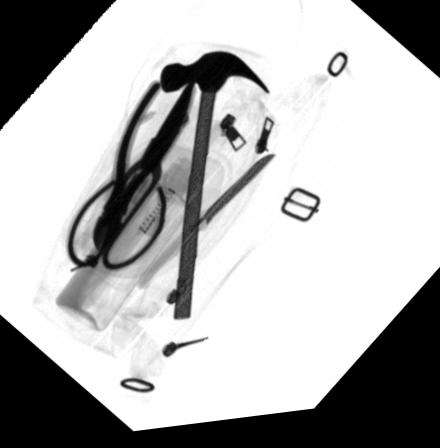Hammer: (158, 55, 270, 324)
Knife: (132, 158, 275, 295)
Pliers: (91, 84, 197, 256)
Scissors: (65, 85, 194, 276)
